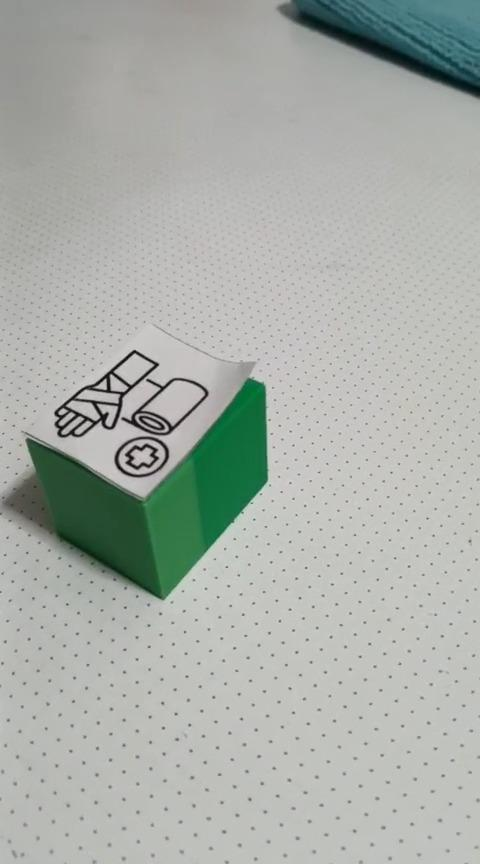Bandages: (20, 320, 269, 599)
